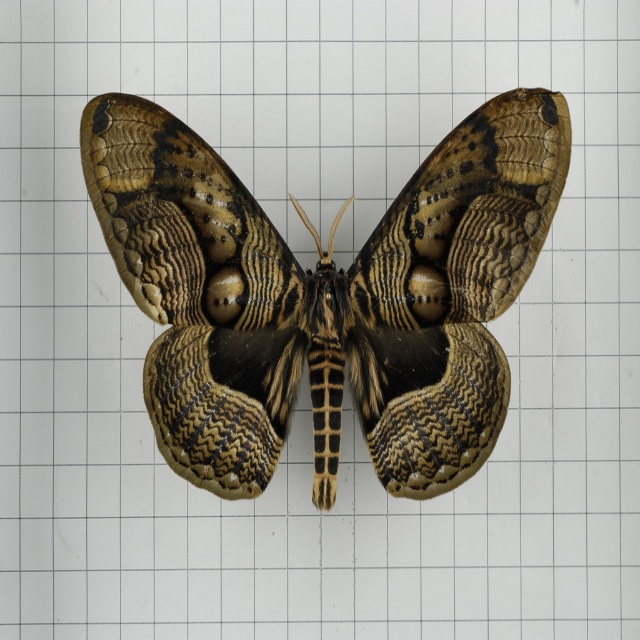Butterfly: (90, 74, 576, 513)
